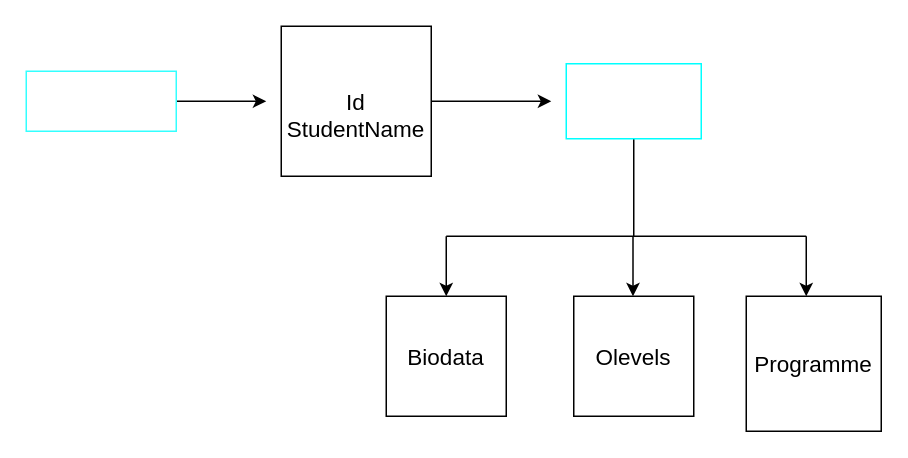
Image size: 908x458. Some labels were removed from this diagram. The box of each missing label's shape, as (x1, y1, x2, y2) in pixels:
Student Data: (565, 62, 701, 139)
Students: (25, 70, 176, 131)
